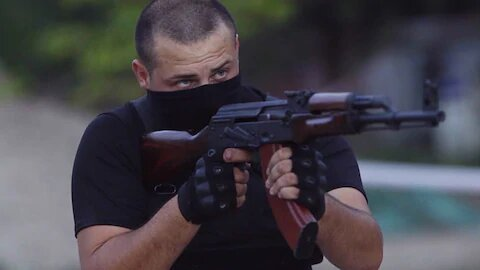rifle: (140, 87, 450, 259)
